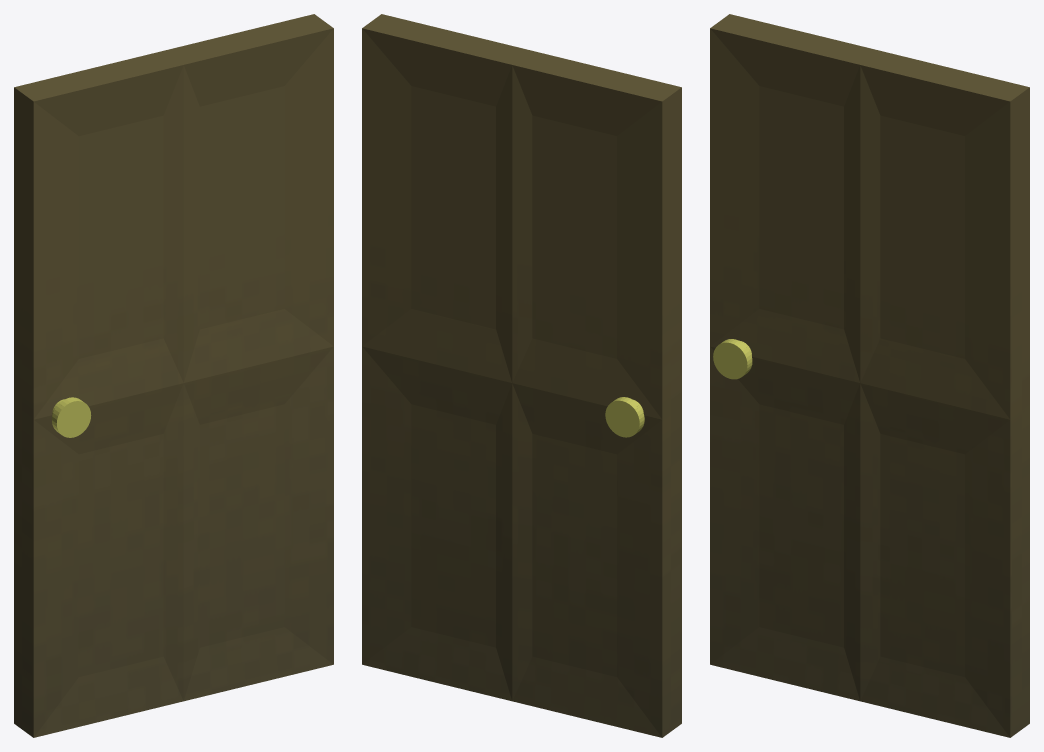
The model's file is 24 DoorTime.glb.
3 renders of one model, left to right at view 1: azimuth 30°, elevation 25°; view 2: azimuth 150°, elevation 25°; view 3: azimuth 330°, elevation 25°, orthographic.
Parts seen in each view (by area): view 1: Door_Baked, nobcenter.002_Baked; view 2: Door_Baked, nobcenter.001_Baked; view 3: Door_Baked, nobcenter.002_Baked.
Boxes of the visible parts, x1=… form: Door_Baked: x1=14, y1=14, x2=333, y2=737; nobcenter.002_Baked: x1=52, y1=397, x2=91, y2=437; Door_Baked: x1=362, y1=14, x2=681, y2=737; nobcenter.001_Baked: x1=605, y1=397, x2=644, y2=437; Door_Baked: x1=710, y1=14, x2=1029, y2=737; nobcenter.002_Baked: x1=713, y1=339, x2=752, y2=379.
Bounding box in the file's own units: 4.55 × 9.22 × 1.03.
Materials: 3 (3 with a texture image).
